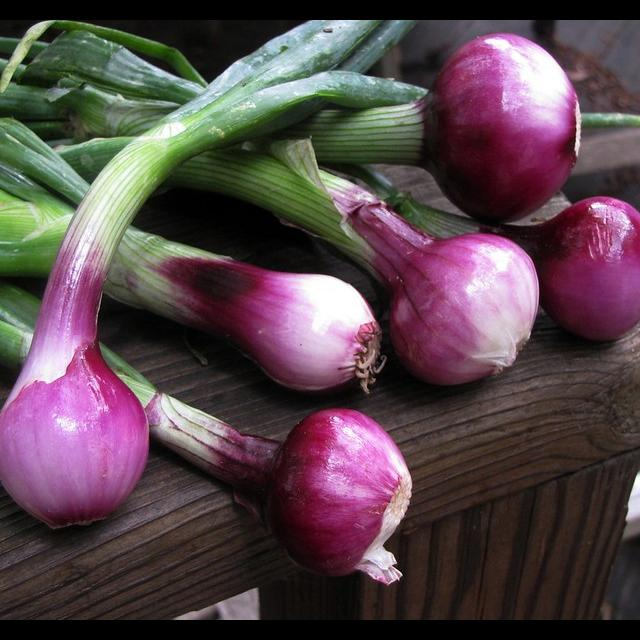green_onion: (0, 20, 416, 528)
